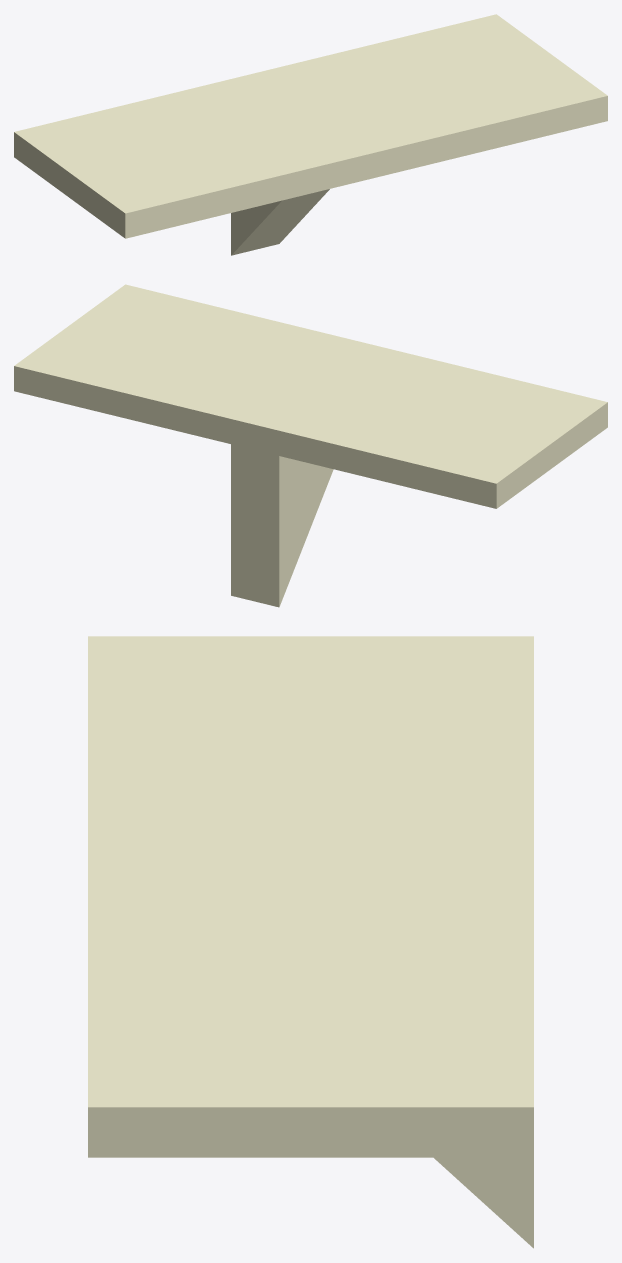
Rendered from Shelf_Short.glb.
3 renders of one model, top to bottom at view 1: azimuth 30°, elevation 25°; view 2: azimuth 150°, elevation 25°; view 3: azimuth 270°, elevation 25°, orthographic. The views are drawn at different scales.
Parts seen in each view (by area): view 1: Shelf Short; view 2: Shelf Short; view 3: Shelf Short.
Part boxes in pixels (x1=…): Shelf Short: x1=14, y1=14, x2=607, y2=255; Shelf Short: x1=14, y1=284, x2=607, y2=607; Shelf Short: x1=88, y1=636, x2=533, y2=1248.
Size of the model in its own units: 0.5 by 0.175 by 0.2.
